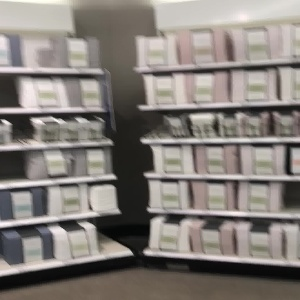void: (94, 217, 129, 251), (144, 109, 169, 138), (1, 155, 26, 180)
